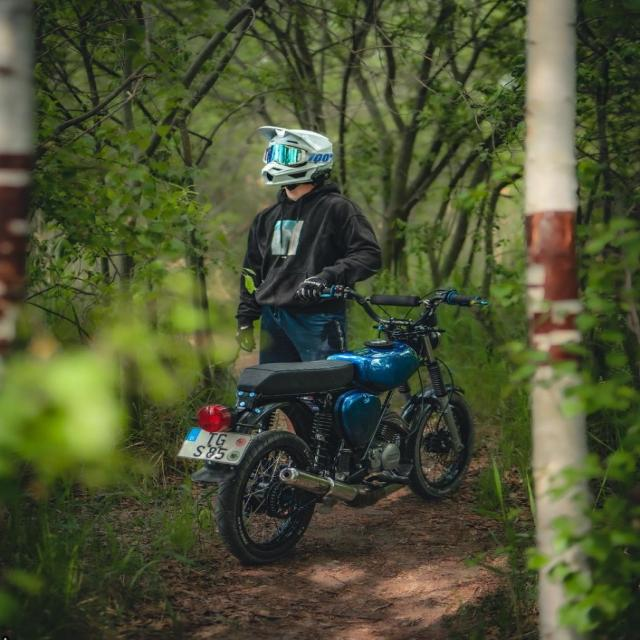illegal_helmet: (253, 120, 340, 192)
